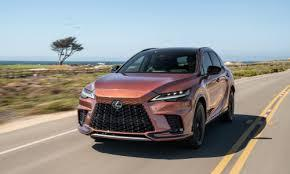lexus: (110, 98, 124, 109)
